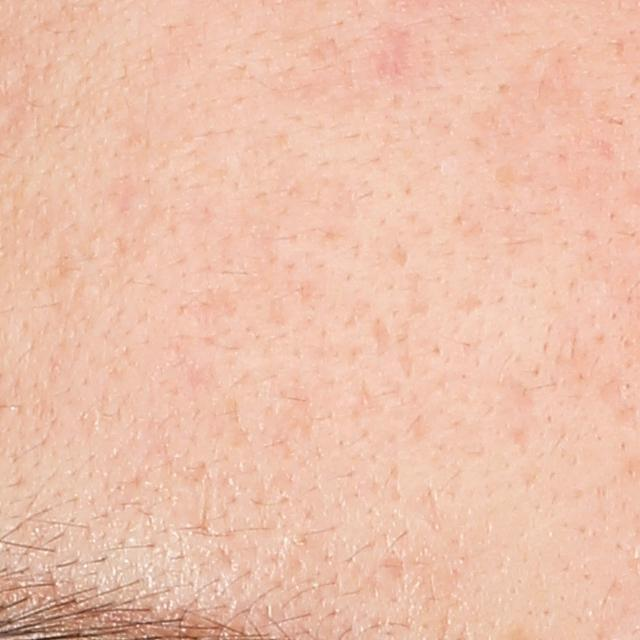atrophic_scar: (368, 312, 396, 362), (450, 290, 487, 319), (513, 419, 533, 455), (390, 239, 408, 267)
